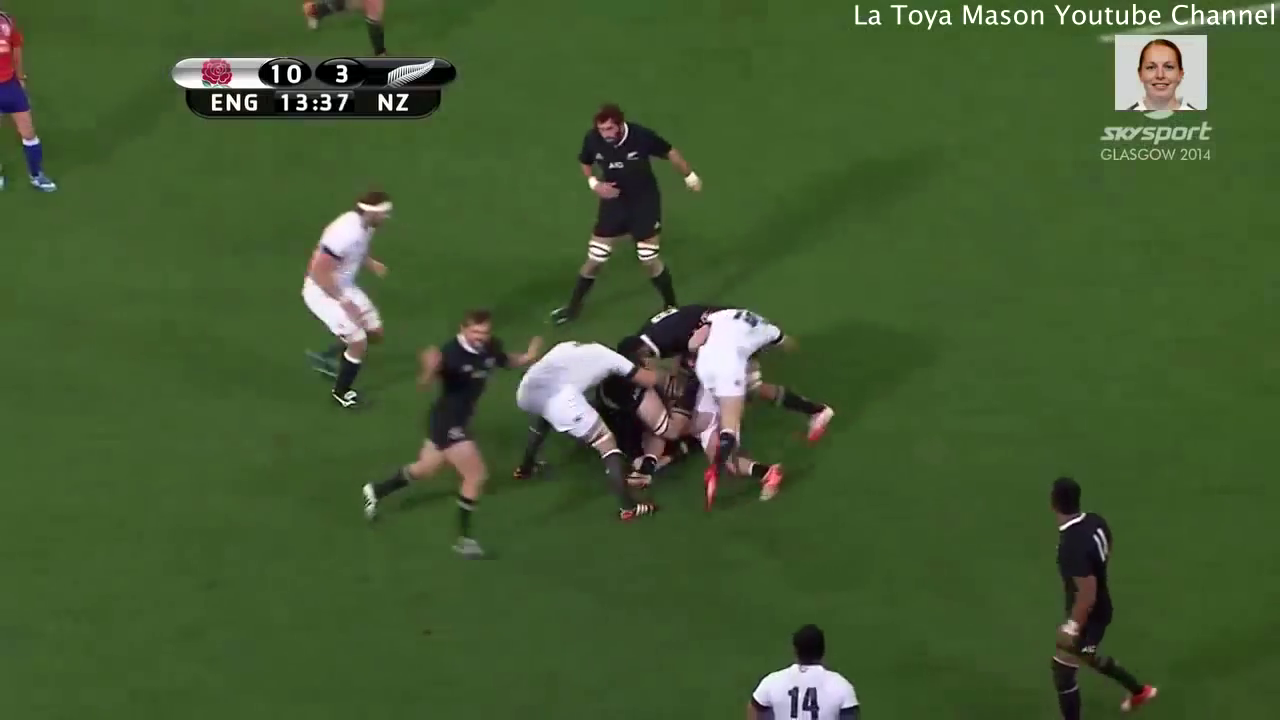player: (349, 307, 548, 557), (546, 96, 706, 329), (1031, 468, 1164, 720), (512, 328, 657, 524), (293, 182, 401, 415), (694, 302, 807, 513), (1, 1, 77, 196), (741, 616, 873, 720), (624, 292, 726, 359)
ruck: (505, 289, 839, 528)
